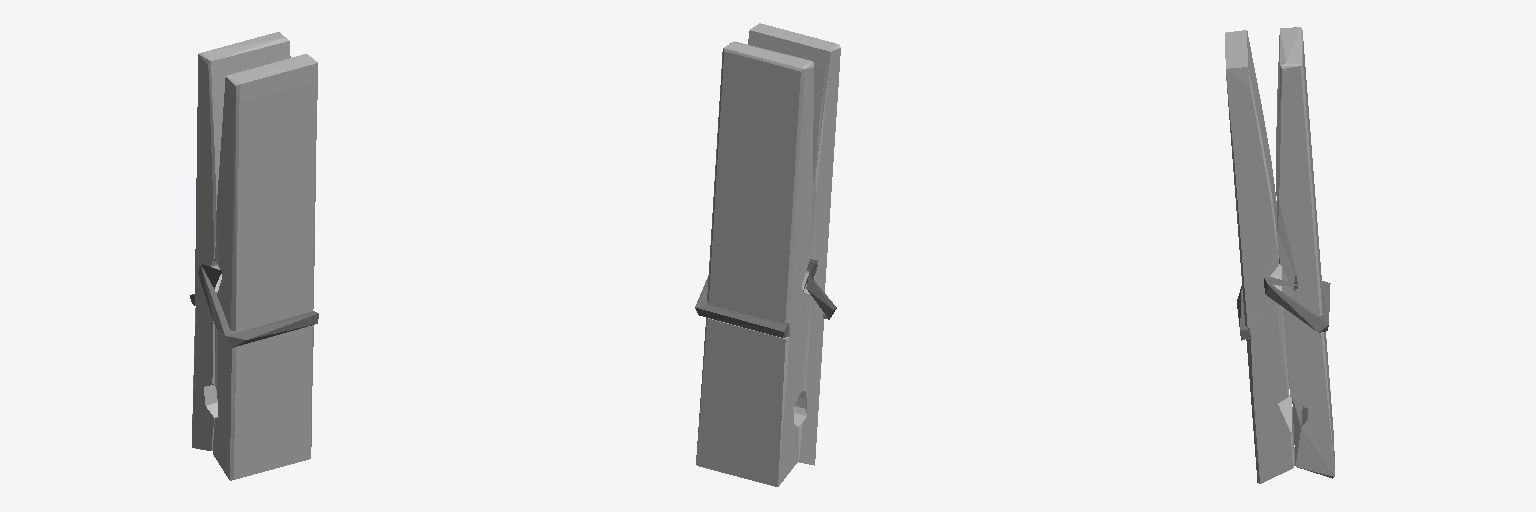
Rendered from clip.obj.
3 views of the same model, side by side, from view 1: azimuth 30°, elevation 25°; view 2: azimuth 150°, elevation 25°; view 3: azimuth 270°, elevation 25° (orthographic).
Bounding box in the file's own units: 7.26 × 27.45 × 6.57.